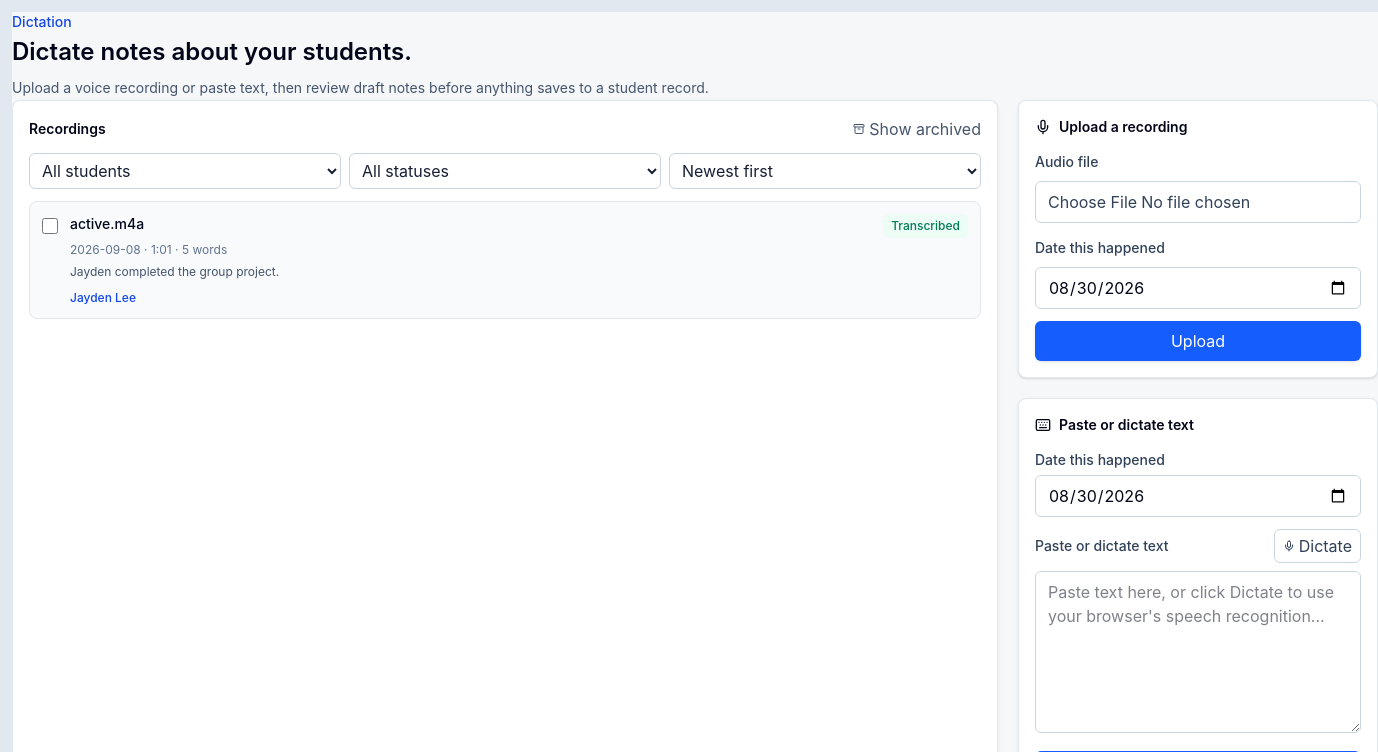
it: DictationListPage › shows active-recording metadata, filters by student, and switches to archived recordings
Expected: the text "active.m4a" is shown, [70,214,144,234]
Expected: the text "2026-09-08 · 1:01 · 5 words" is shown, [70,242,227,257]
Select "Jayden Lee" in the dropdown named "Filter by student" at [185, 171], box [29,153,341,189]
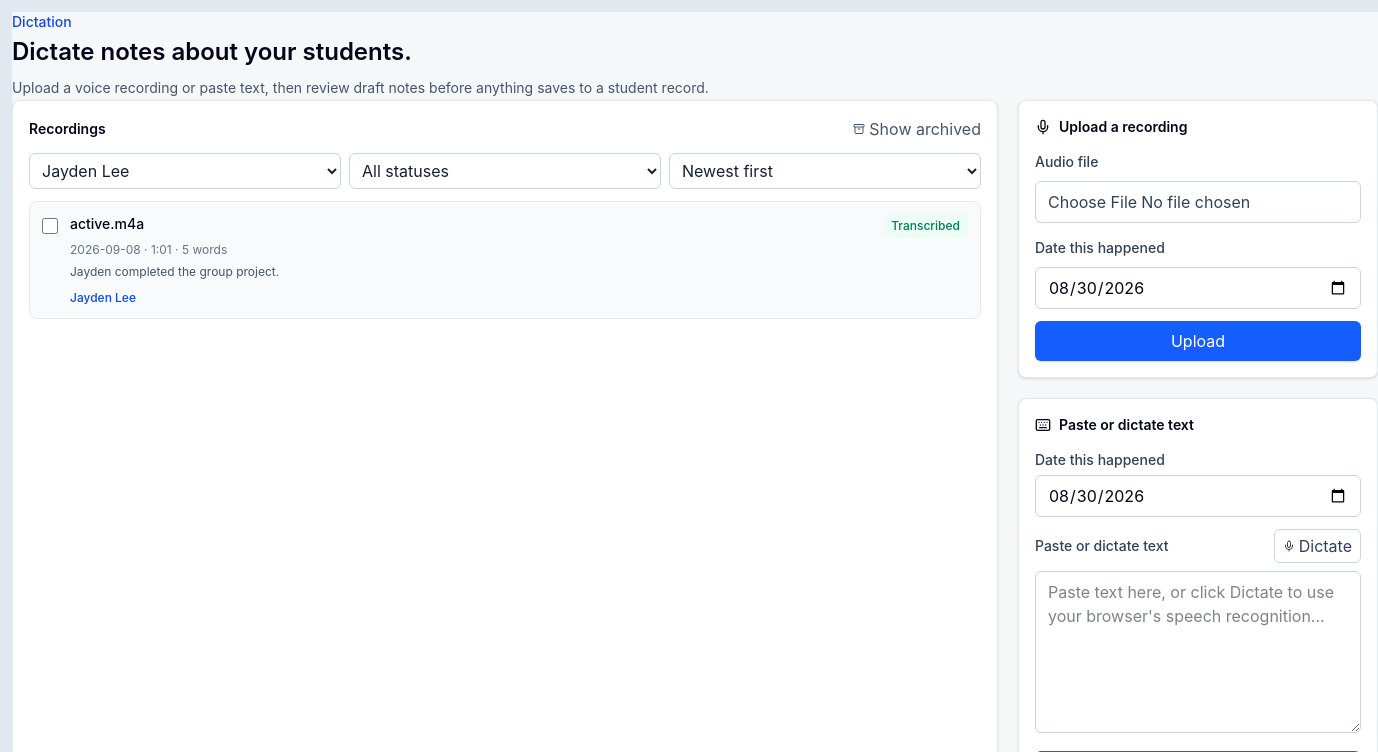
Expected: the text "active.m4a" is shown, [70,214,144,234]
Click the button "Show archived".
click(917, 129)  # box [853,117,981,141]
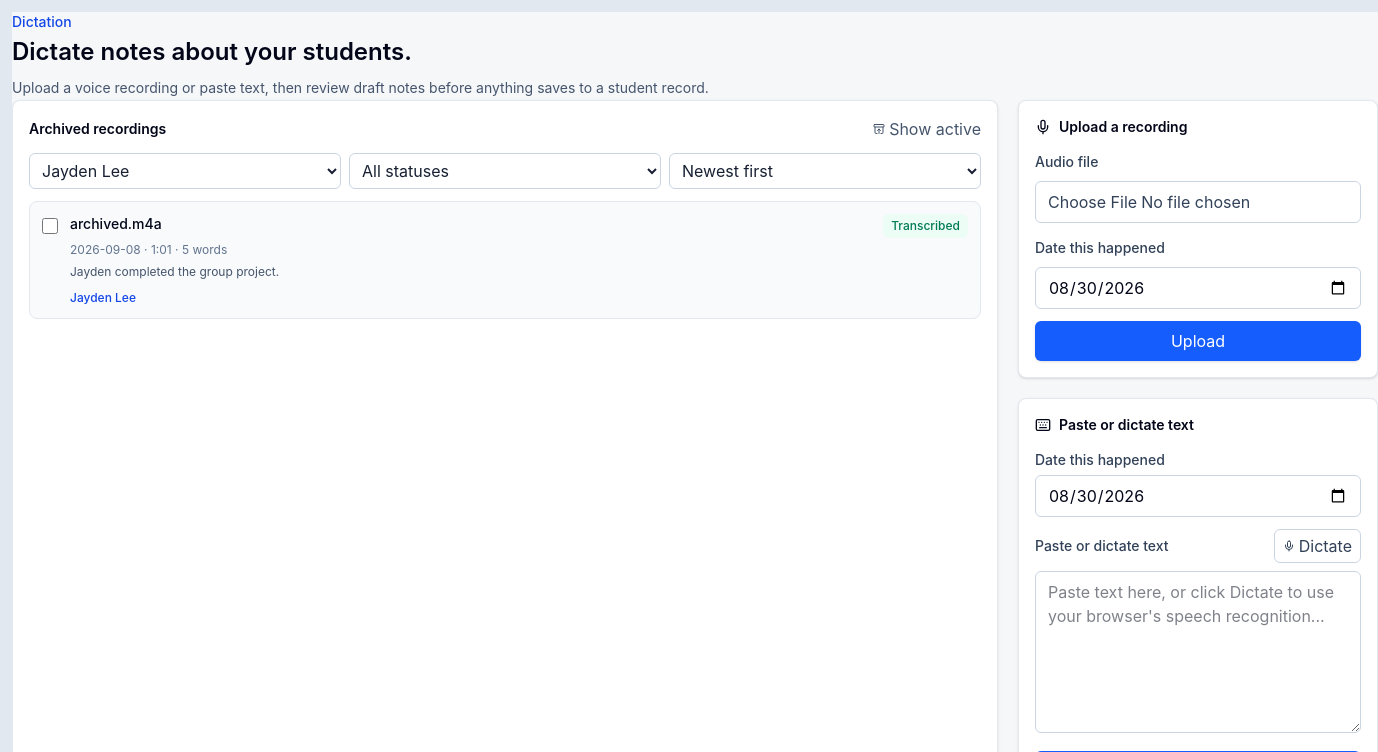
Expected: the text "archived.m4a" is shown, [70,214,162,234]
Expected: the link "active.m4a" is gone
